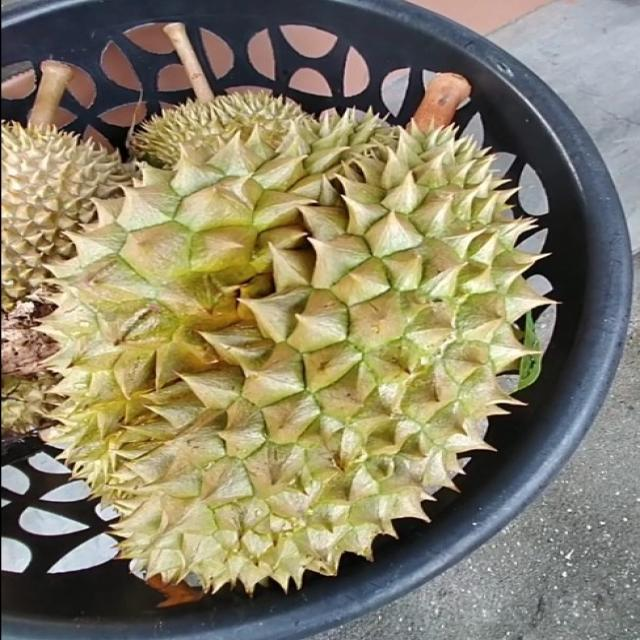mature: (50, 93, 562, 602)
